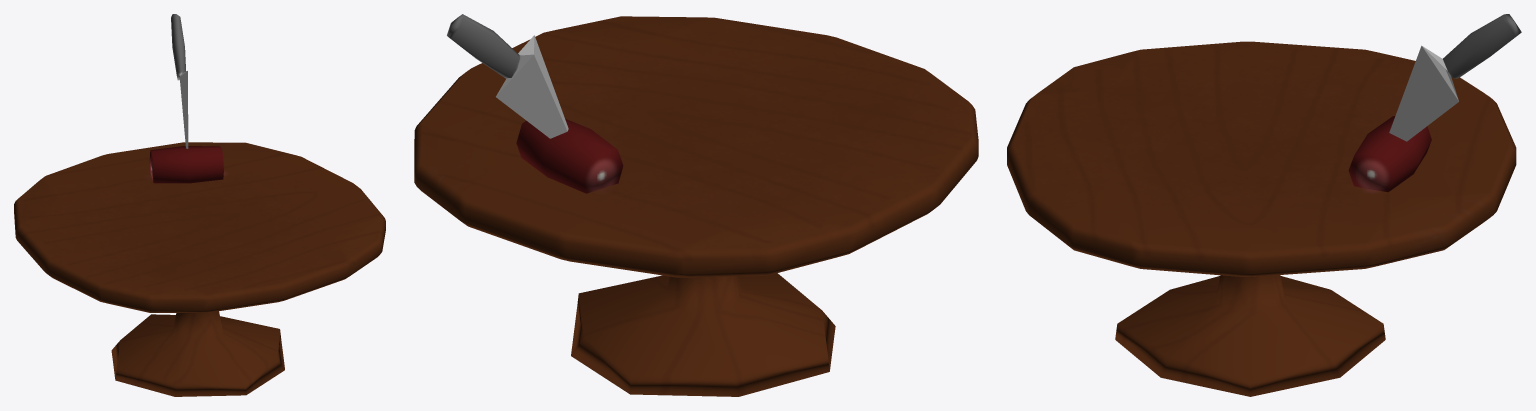
File: kitchen tavle.fbx
3 views of the same model, side by side, from view 1: azimuth 30°, elevation 25°; view 2: azimuth 150°, elevation 25°; view 3: azimuth 270°, elevation 25° (orthographic). The views are drawn at different scales.
Parts seen in each view (by area): view 1: polySurface588; view 2: polySurface588; view 3: polySurface588.
Boxes of the visible parts, box(x1,y1,x2,y2) form: polySurface588: box(14, 14, 385, 396); polySurface588: box(414, 14, 978, 396); polySurface588: box(1007, 14, 1521, 396).
Size of the model in its own units: 1.92 by 1.55 by 1.94.
Materials: 1 (1 with a texture image).
